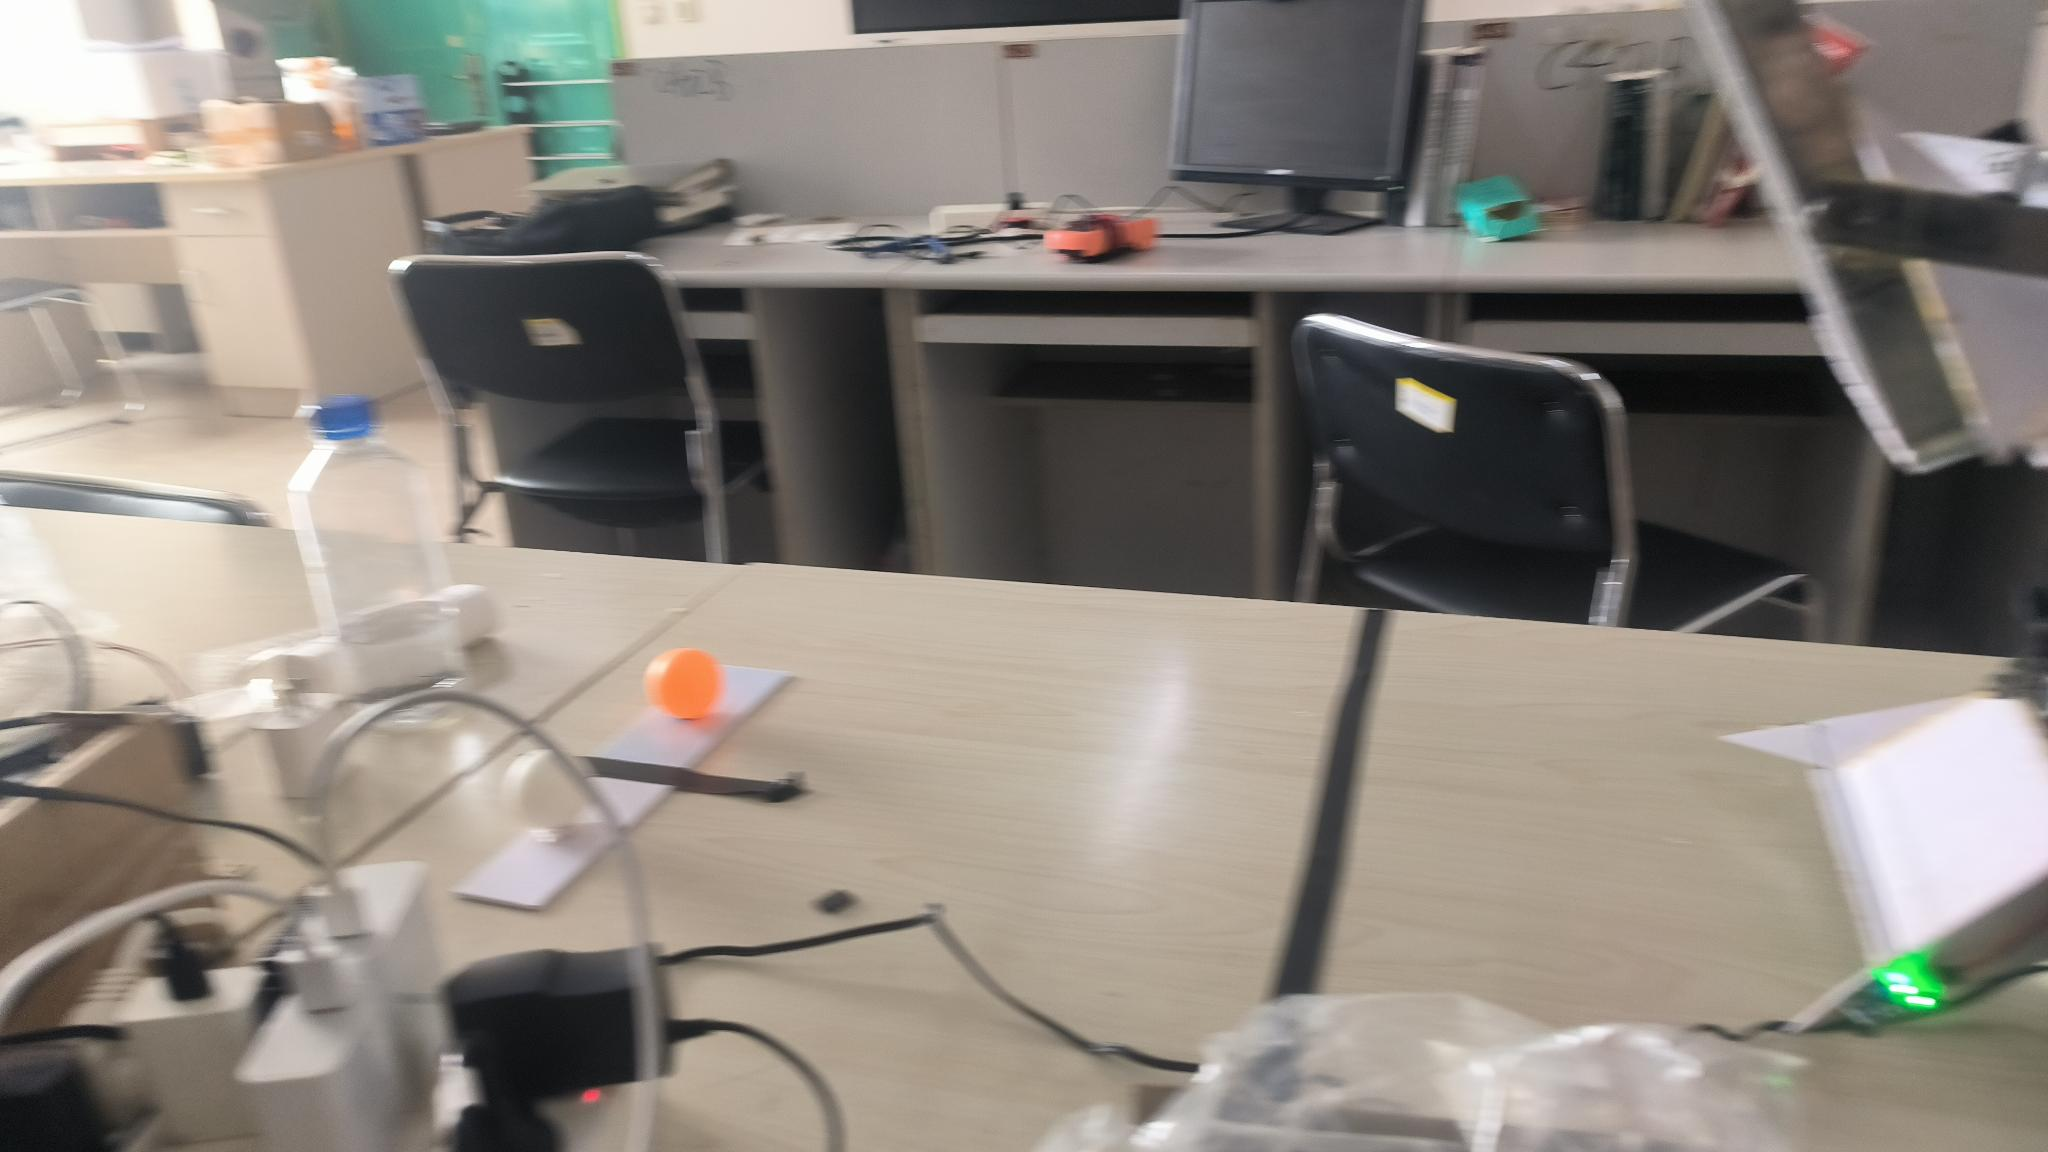ball: (504, 751, 588, 834), (643, 647, 726, 719)
